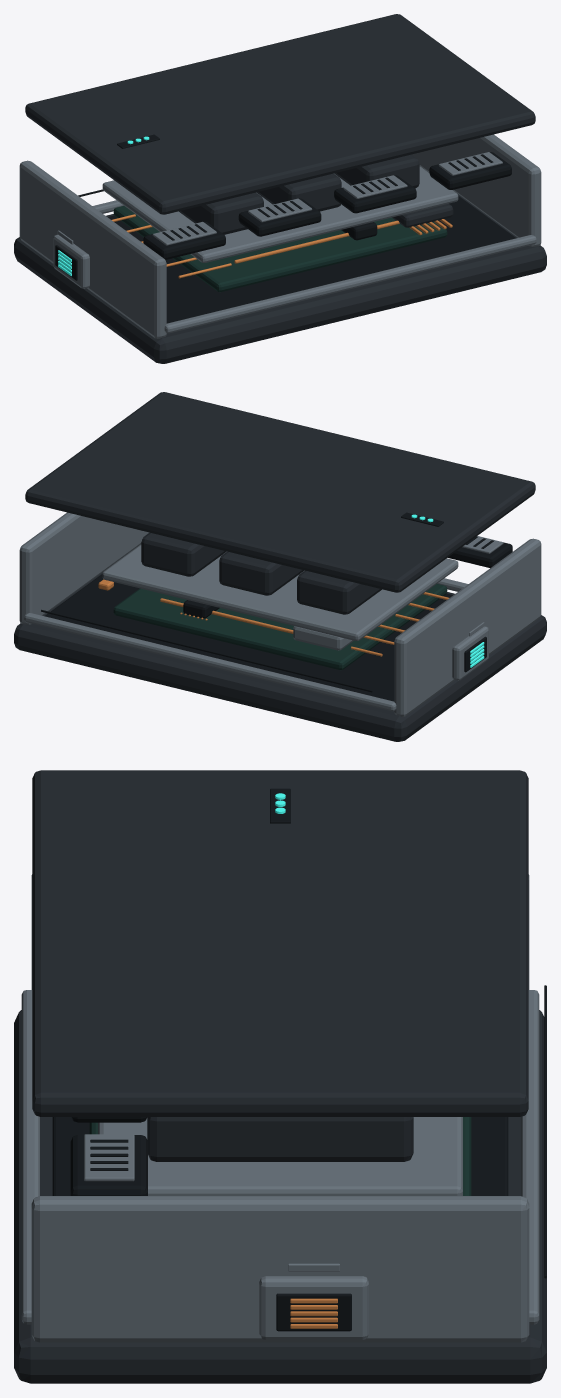
The model's file is server.glb.
3 renders of one model, top to bottom at view 1: azimuth 30°, elevation 25°; view 2: azimuth 150°, elevation 25°; view 3: azimuth 270°, elevation 25°, orthographic. The views are drawn at different scales.
Visible parts, largest first — view 1: batch-lid-Graphite-ceramic, batch-shell-Machined-titanium, batch-shell-Graphite-ceramic, batch-shell-Shadow-graphite, batch-core-Machined-titanium, batch-core-Circuit-substrate, batch-core-Shadow-graphite, batch-core-Graphite-ceramic, batch-core-Copper-contact, batch-port-in-Machined-titanium; view 2: batch-lid-Graphite-ceramic, batch-shell-Machined-titanium, batch-shell-Graphite-ceramic, batch-core-Machined-titanium, batch-shell-Shadow-graphite, batch-core-Circuit-substrate, batch-core-Graphite-ceramic, batch-core-Shadow-graphite, batch-core-Copper-contact, batch-port-in-Machined-titanium; view 3: batch-lid-Graphite-ceramic, batch-shell-Machined-titanium, batch-shell-Graphite-ceramic, batch-core-Machined-titanium, batch-core-Graphite-ceramic, batch-shell-Shadow-graphite, batch-port-out-Machined-titanium, batch-core-Shadow-graphite, batch-port-out-Shadow-graphite, batch-port-out-Copper-contact, batch-core-Circuit-substrate.
Boxes of the visible parts, x1,y1,x2,y2 form: batch-lid-Graphite-ceramic: (25,14,535,214); batch-shell-Machined-titanium: (19,134,541,338); batch-shell-Graphite-ceramic: (14,168,546,363); batch-shell-Shadow-graphite: (78,189,515,323); batch-core-Machined-titanium: (102,152,502,262); batch-core-Circuit-substrate: (113,206,447,292); batch-core-Shadow-graphite: (143,152,511,259); batch-core-Graphite-ceramic: (179,154,453,234); batch-core-Copper-contact: (112,214,452,278); batch-port-in-Machined-titanium: (53,230,89,288); batch-lid-Graphite-ceramic: (25,392,535,592); batch-shell-Machined-titanium: (19,512,541,716); batch-shell-Graphite-ceramic: (14,546,546,741); batch-core-Machined-titanium: (102,536,503,650); batch-shell-Shadow-graphite: (41,574,452,701); batch-core-Circuit-substrate: (113,584,447,670); batch-core-Graphite-ceramic: (141,532,381,614); batch-core-Shadow-graphite: (183,536,512,618); batch-core-Copper-contact: (98,579,448,656); batch-port-in-Machined-titanium: (452,622,488,680); batch-lid-Graphite-ceramic: (32,770,528,1116); batch-shell-Machined-titanium: (21,874,539,1342); batch-shell-Graphite-ceramic: (14,1010,546,1383); batch-core-Machined-titanium: (84,1117,462,1195); batch-core-Graphite-ceramic: (147,1117,413,1161); batch-shell-Shadow-graphite: (52,985,546,1278); batch-port-out-Machined-titanium: (259,1263,368,1339); batch-core-Shadow-graphite: (70,1117,147,1195); batch-port-out-Shadow-graphite: (276,1293,351,1331); batch-port-out-Copper-contact: (290,1298,337,1328); batch-core-Circuit-substrate: (89,1117,471,1195).
Size of the model in its own units: 6.12 by 2.29 by 3.8.
